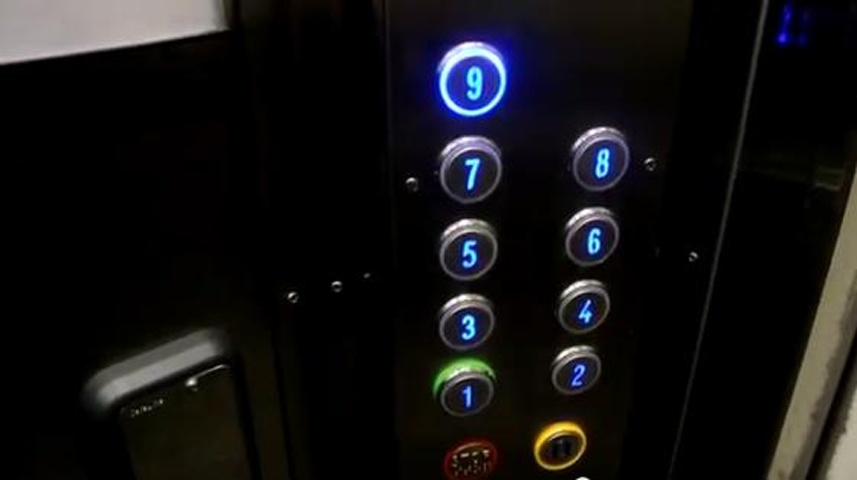1: (427, 355, 502, 420)
2: (547, 343, 606, 398)
3: (431, 292, 501, 352)
4: (550, 276, 615, 339)
5: (430, 214, 503, 284)
6: (556, 202, 624, 270)
7: (430, 130, 507, 207)
8: (564, 121, 632, 198)
9: (430, 36, 511, 123)
blur: (528, 417, 592, 475), (438, 434, 507, 480)
